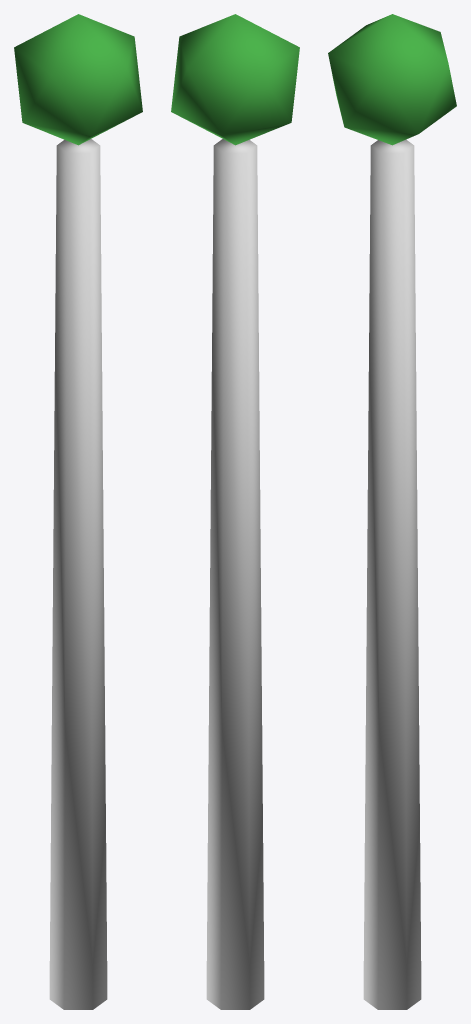
Rendered from razorpine.glb.
The picture shows the model from 3 angles, left to right: view 1: azimuth 30°, elevation 25°; view 2: azimuth 150°, elevation 25°; view 3: azimuth 330°, elevation 25°; orthographic projection.
Visible parts, largest first — view 1: razorpine_v0; view 2: razorpine_v0; view 3: razorpine_v0.
Part boxes in pixels (box(x1,y1,x2,y2)): razorpine_v0: box(14, 14, 142, 1009); razorpine_v0: box(171, 14, 299, 1009); razorpine_v0: box(328, 14, 456, 1009).
Size of the model in its own units: 0.0716 by 0.6 by 0.0681.
